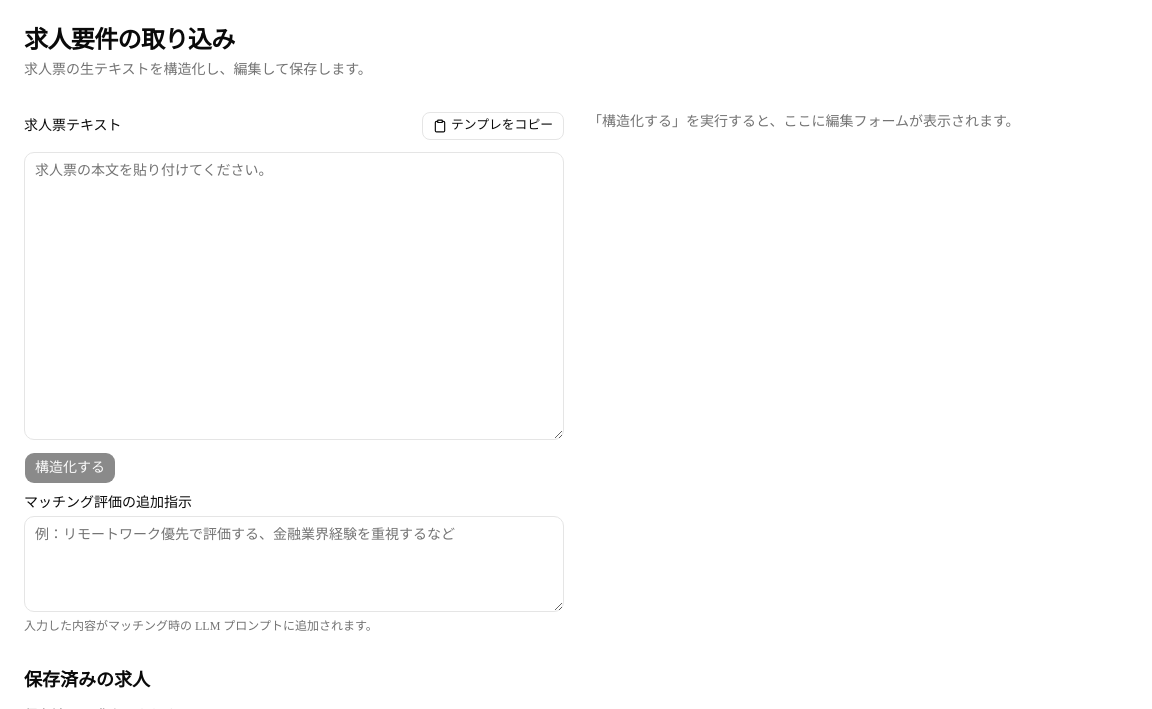
it: parse 失敗系の文言出し分け › LLM_TIMEOUT のとき専用文言を表示する
Type "テキスト" into the text box labelled "求人票テキスト" at (294, 296), box [24, 152, 564, 440]
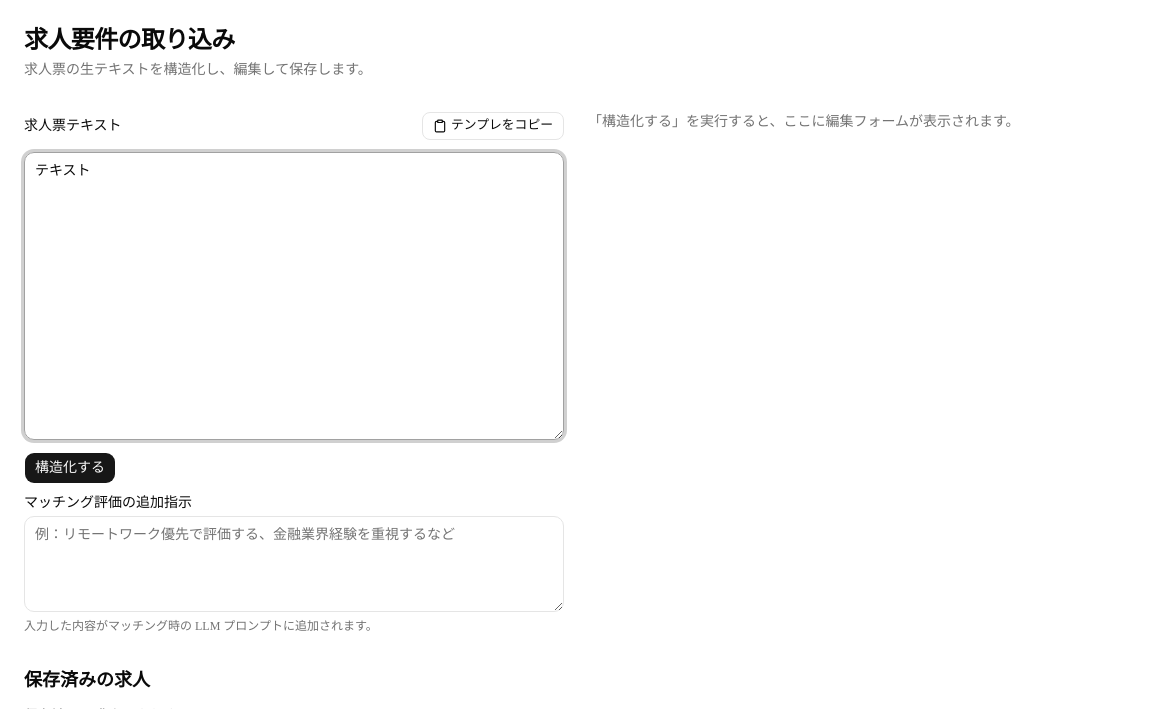
Click the button "構造化する" at (70, 468), box [24, 452, 116, 484]
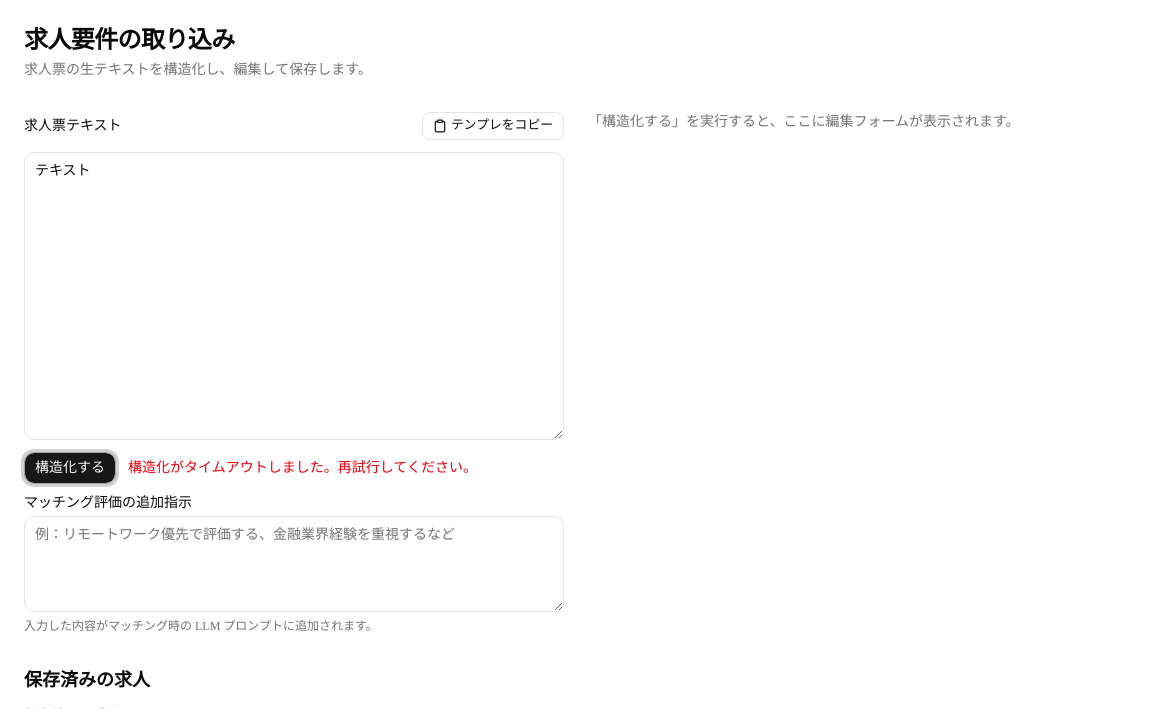
Now the message reads "構造化がタイムアウトしました。再試行してください。", box [128, 460, 477, 475]
